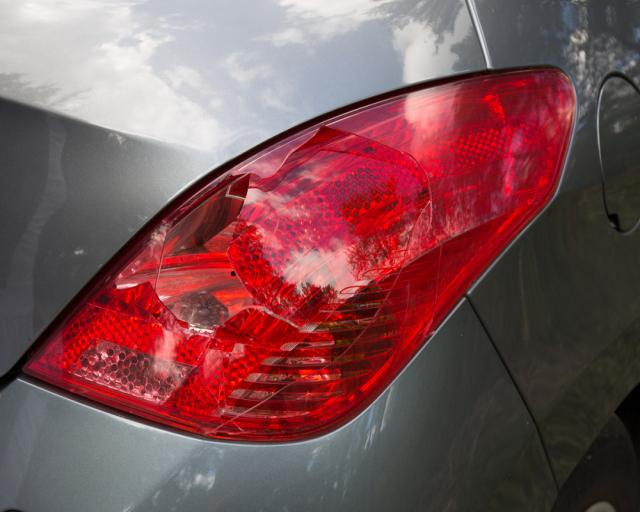lamp broken: (13, 66, 576, 444)
